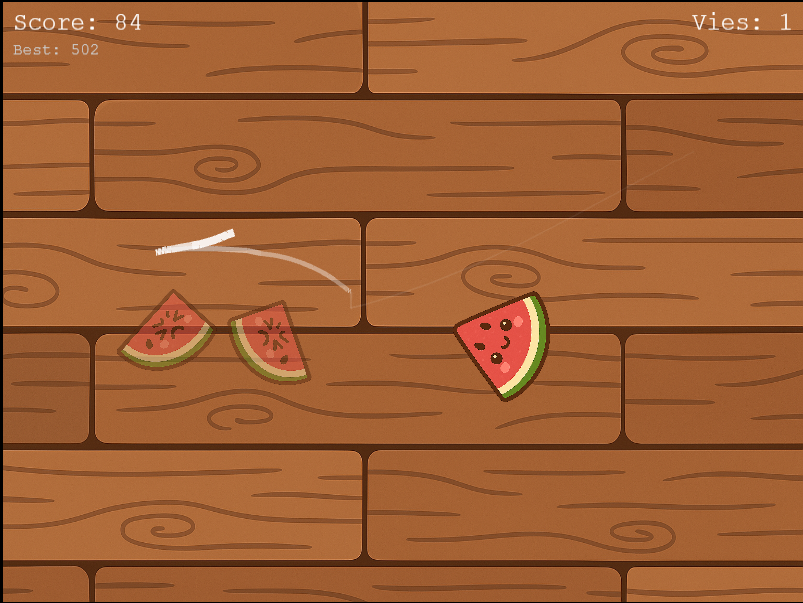fruit: (452, 291, 553, 405)
